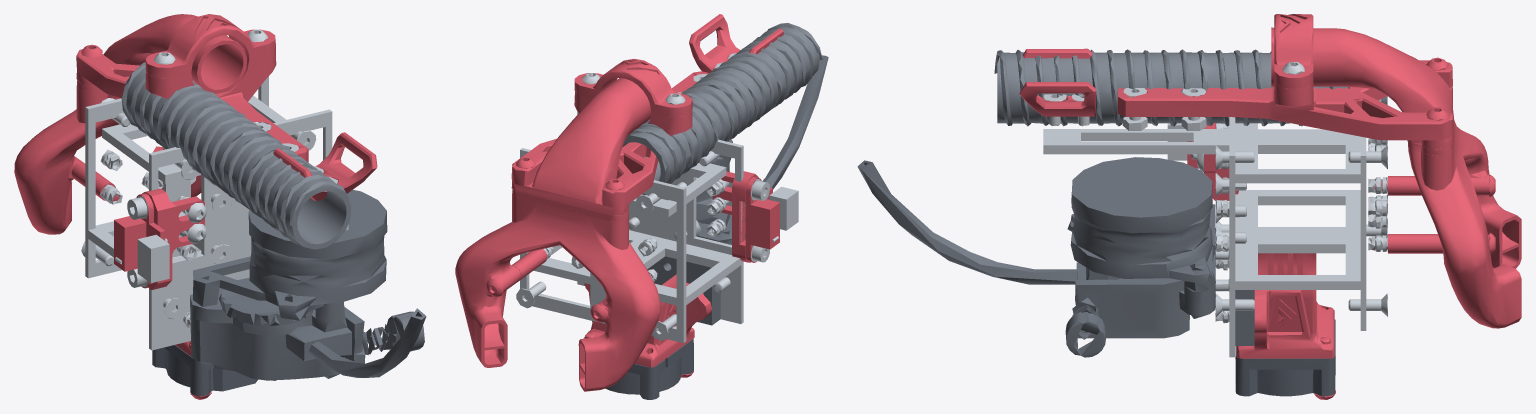
3 views of the same model, side by side, from view 1: azimuth 30°, elevation 25°; view 2: azimuth 150°, elevation 25°; view 3: azimuth 270°, elevation 25° (orthographic). The views are drawn at different scales.
Parts seen in each view (by area): view 1: component25, cpap_tube, cnc_top_plate, solid, cpap_duct_15mm, solid_72, cpap_clamp, cnc_bottom_plate, body__1___1_, solid_55, cnc_back_piece, top_endstop_angled__1_ (+7 smaller); view 2: solid, cpap_tube, cpap_duct_15mm, solid_72, cnc_top_plate, cnc_front_piece, cnc_bottom_plate, component25, cpap_clamp, body__1___1_, solid_78, solid_55 (+8 smaller); view 3: component25, solid, cpap_tube, solid_72, cnc_back_piece, cnc_front_piece, cpap_duct_15mm, solid_78, body__1___1_, solid_55, cpap_clamp, cnc_top_plate (+5 smaller).
Boxes of the visible parts, <box> form: component25: <box>190,190,426,380</box>; cpap_tube: <box>121,62,351,249</box>; cnc_top_plate: <box>149,109,332,350</box>; solid: <box>14,85,201,234</box>; cpap_duct_15mm: <box>76,14,247,93</box>; solid_72: <box>76,48,308,162</box>; cpap_clamp: <box>145,14,275,78</box>; cnc_bottom_plate: <box>85,76,268,278</box>; body__1___1_: <box>152,345,258,396</box>; solid_55: <box>273,132,377,200</box>; cnc_back_piece: <box>102,95,348,230</box>; top_endstop_angled__1_: <box>142,188,204,289</box>; solid: <box>455,193,660,391</box>; cpap_tube: <box>622,23,822,195</box>; cpap_duct_15mm: <box>511,78,651,215</box>; solid_72: <box>511,71,708,207</box>; cnc_top_plate: <box>577,111,743,323</box>; cnc_front_piece: <box>534,230,741,307</box>; cnc_bottom_plate: <box>520,148,686,342</box>; component25: <box>696,55,828,244</box>; cpap_clamp: <box>574,59,692,117</box>; body__1___1_: <box>605,338,693,399</box>; solid_78: <box>583,274,711,367</box>; solid_55: <box>689,14,783,72</box>; component25: <box>857,157,1215,357</box>; solid: <box>1408,110,1521,328</box>; cpap_tube: <box>994,49,1349,126</box>; solid_72: <box>1117,60,1452,140</box>; cnc_back_piece: <box>1043,123,1360,183</box>; cnc_front_piece: <box>1235,190,1365,289</box>; cpap_duct_15mm: <box>1271,27,1452,149</box>; solid_78: <box>1236,253,1334,358</box>; body__1___1_: <box>1235,319,1335,396</box>; solid_55: <box>1019,48,1096,116</box>; cpap_clamp: <box>1274,14,1313,88</box>; cnc_top_plate: <box>1229,117,1235,357</box>.
Size of the model in its own units: 0.0716 by 0.1023 by 0.1696.
